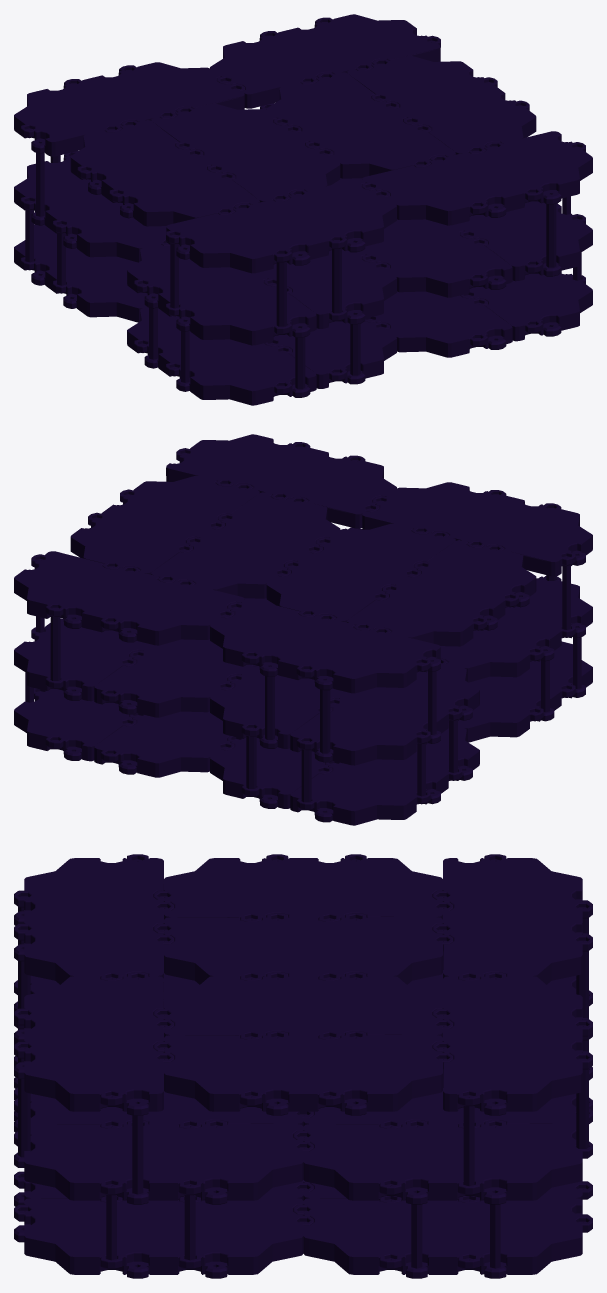
Rendered from waffle_base.dae.
3 renders of one model, top to bottom at view 1: azimuth 30°, elevation 25°; view 2: azimuth 150°, elevation 25°; view 3: azimuth 270°, elevation 25°, orthographic. The views are drawn at different scales.
Visible parts, largest first — view 1: waffle_base; view 2: waffle_base; view 3: waffle_base.
Part boxes in pixels (x1,y1,x2,y2): waffle_base: [14, 14, 592, 405]; waffle_base: [14, 434, 592, 825]; waffle_base: [14, 854, 592, 1278].
Size of the model in its own units: 0.5311 by 0.5311 by 0.183.
